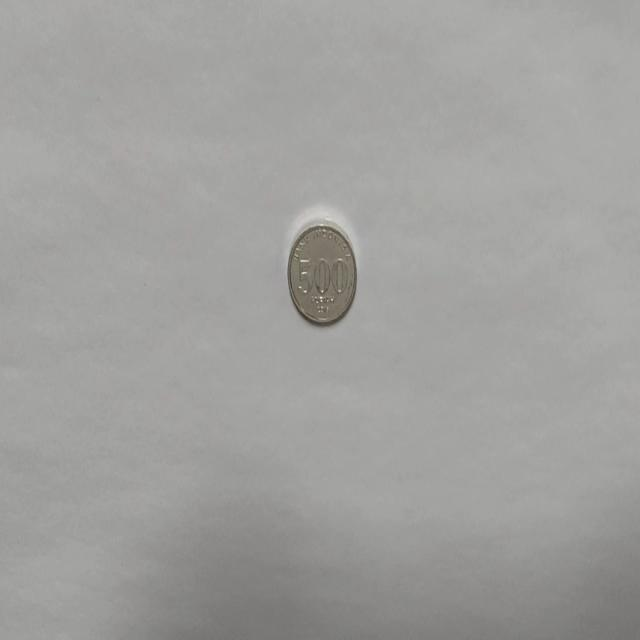lima ratus rupiah: (287, 220, 357, 326)
